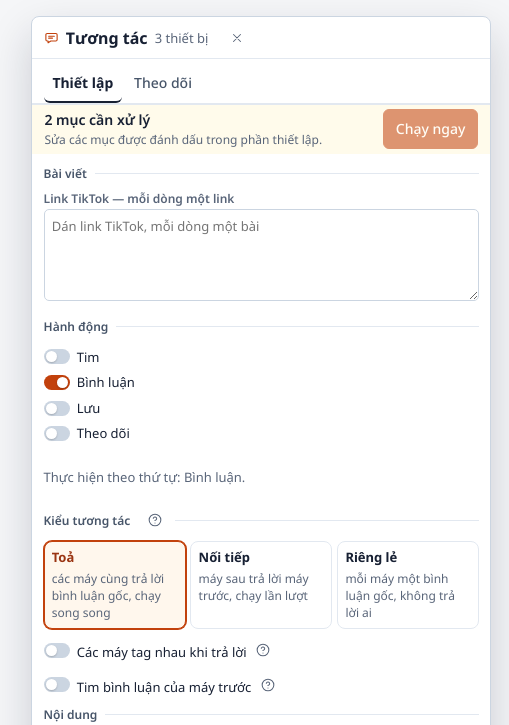
Test case: InteractionPopup › does not let an old short-link resolution replace links parsed from newer input
Type "https://vt.tiktok.com/old" into the text box labelled "Link TikTok — mỗi dòng một link".
click(261, 255); type("https://vt.tiktok.com/old")  # box [44,209,479,301]
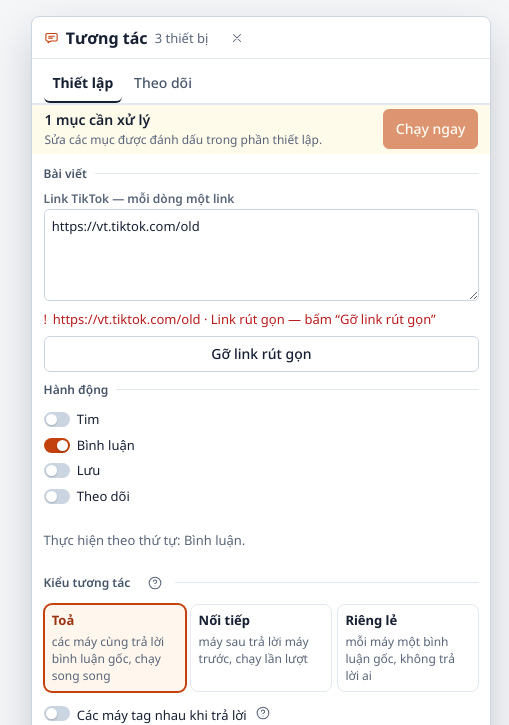
Click the button "Gỡ link rút gọn".
click(261, 354)  # box [44,336,479,372]
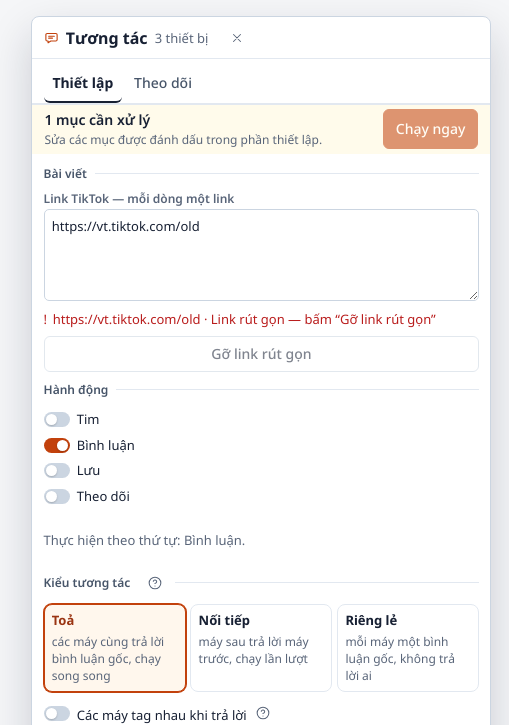
Replace the text in the text box labelled "Link TikTok — mỗi dòng một link" with "https://www.tiktok.com/@creator/video/222" at (261,255), box [44,209,479,301]
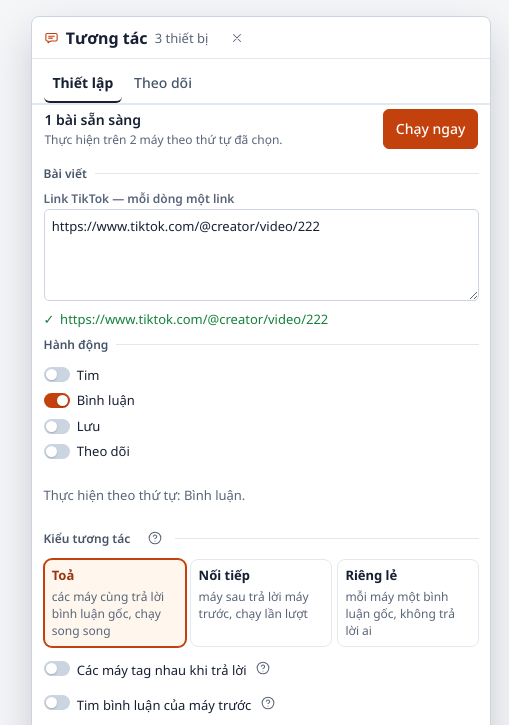
Check: the element with class "interaction-link-list" shows "https://www.tiktok.com/@creator/video/222", box [60,310,328,328]
